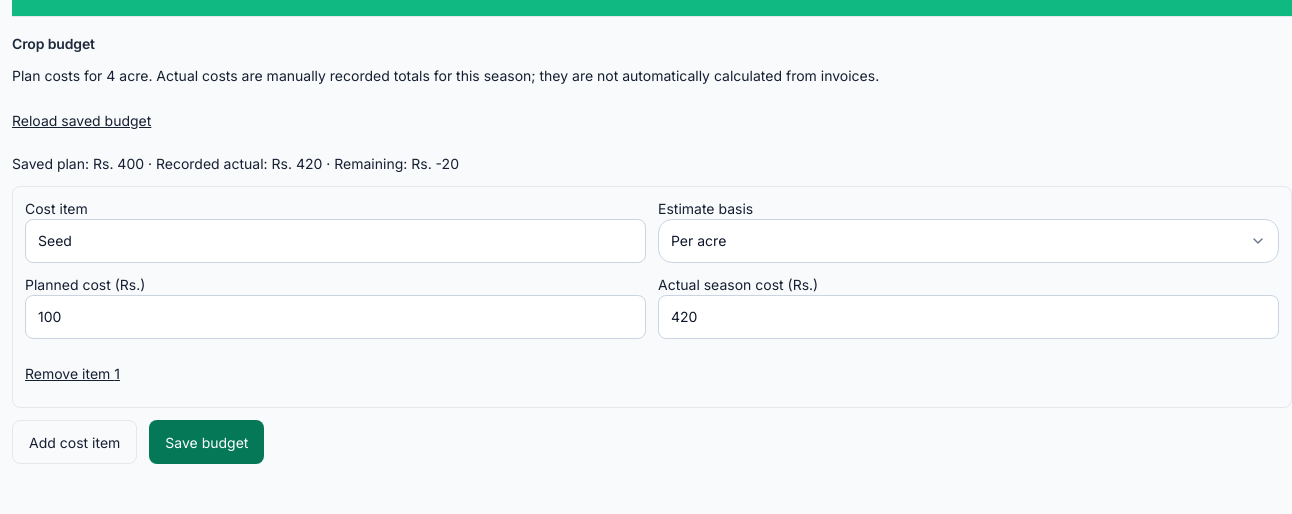
it: loads saved costs and submits versioned whole-season actual costs
The width and height of the screenshot is (1292, 514).
Expected: the field showing "Seed" is shown, [25,219,646,263]
Expected: the text "Remaining: Rs. -20" is shown, [12,155,459,172]
Replace the text in the number field labelled "Actual season cost (Rs.)" with "450" at {"x": 968, "y": 317}, box [658,295,1279,339]
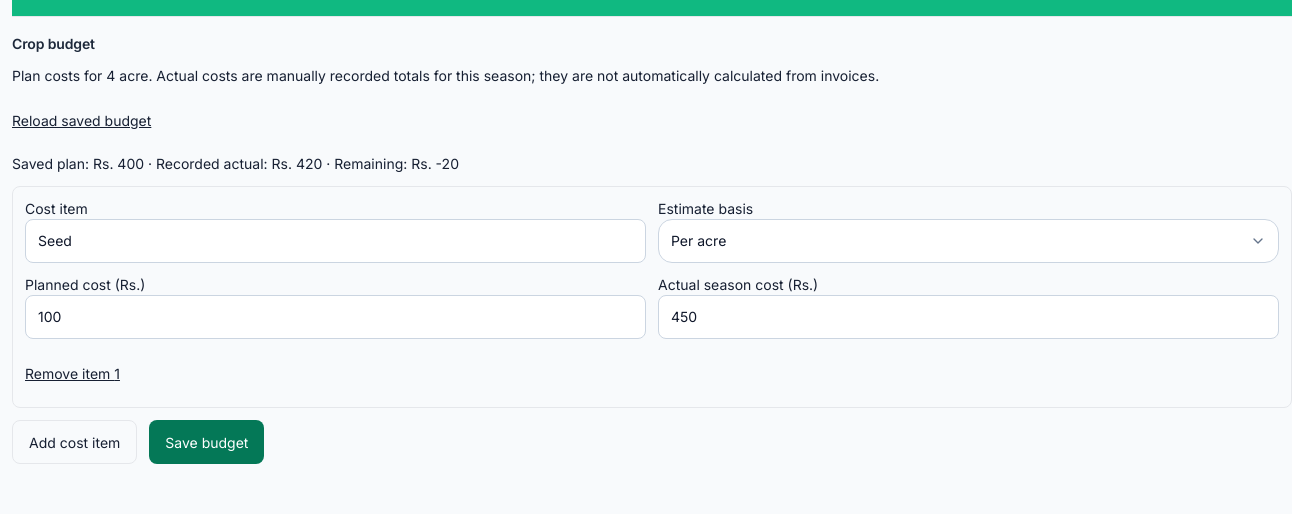
Click the button "Save budget" at {"x": 207, "y": 442}, box [149,420,264,464]
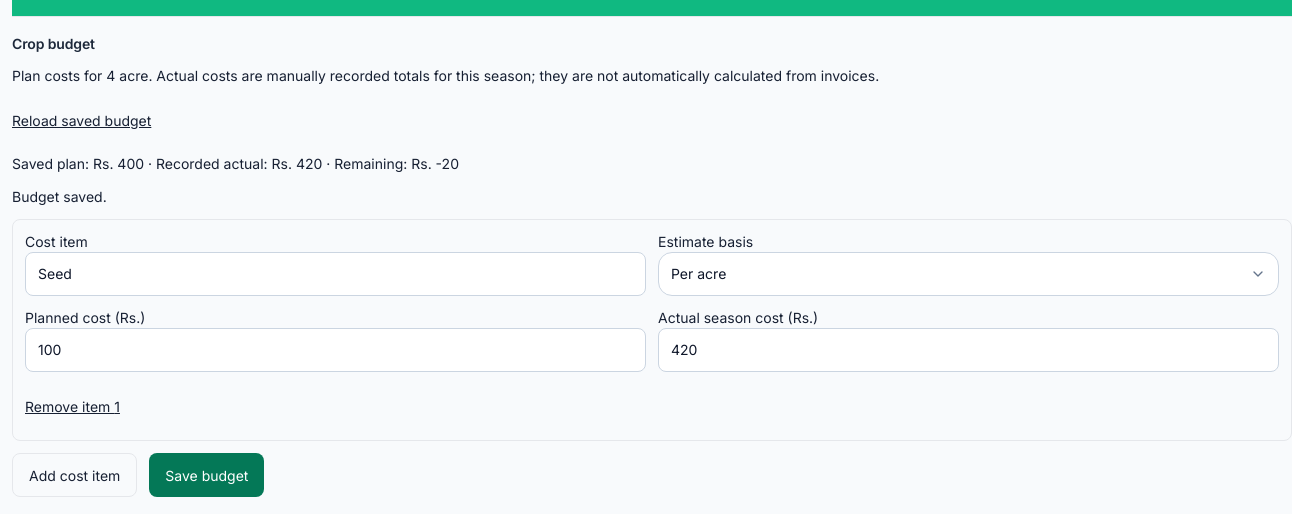
Result: the text "Budget saved." is shown at [12,188,107,205]
